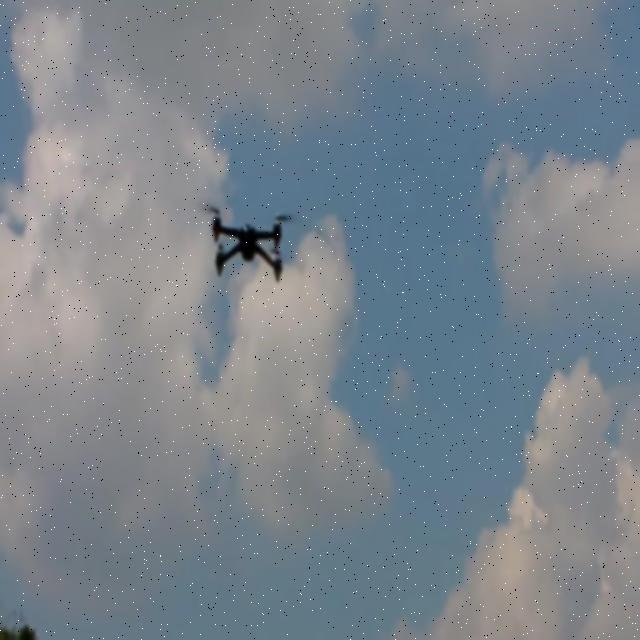UAV: (208, 202, 290, 284)
